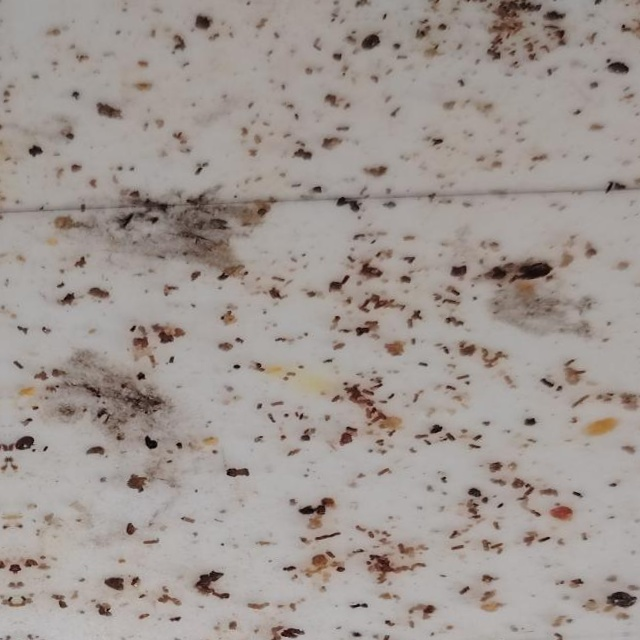varroa: (514, 261, 553, 283), (358, 33, 383, 53), (607, 63, 630, 79), (16, 435, 36, 452)
